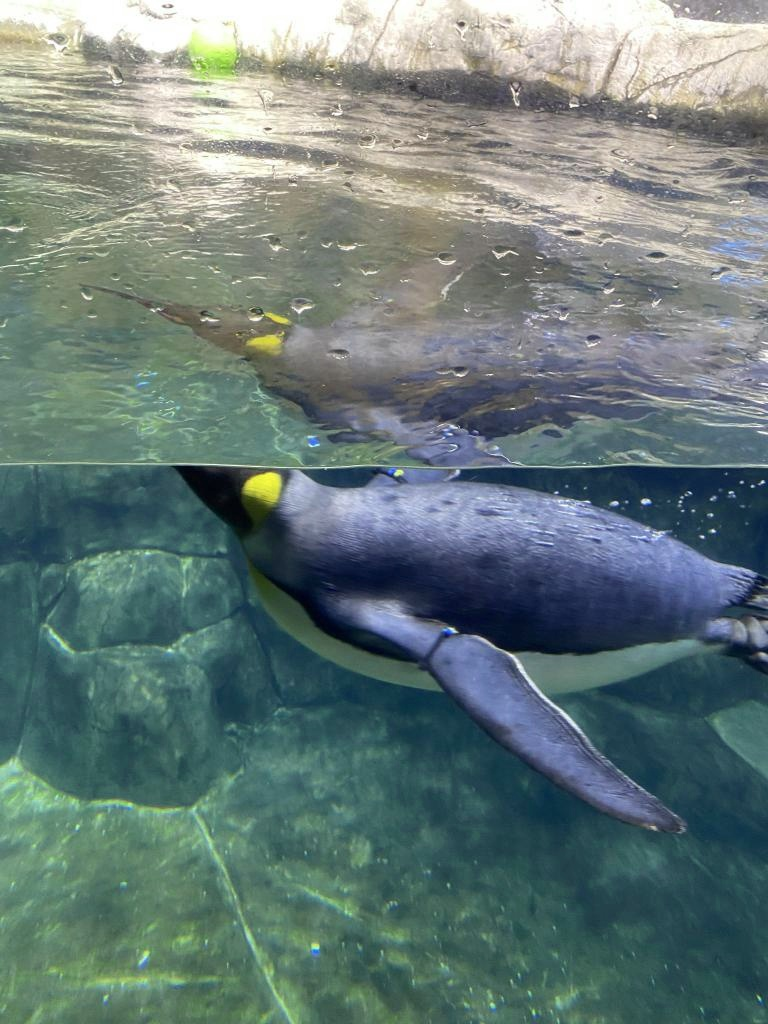penguin: (166, 426, 768, 840)
